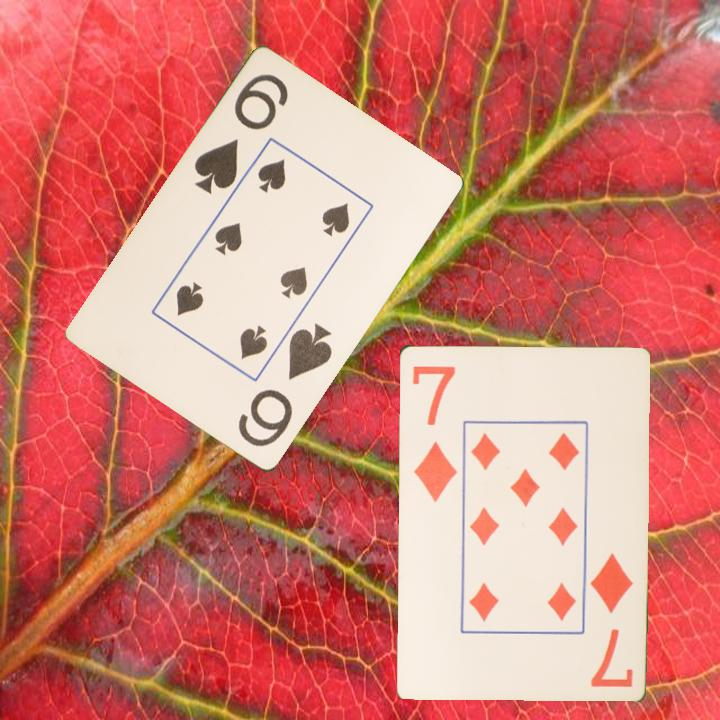6s: (234, 320, 336, 451), (190, 70, 292, 198)
7d: (408, 361, 459, 504), (586, 549, 636, 690)
